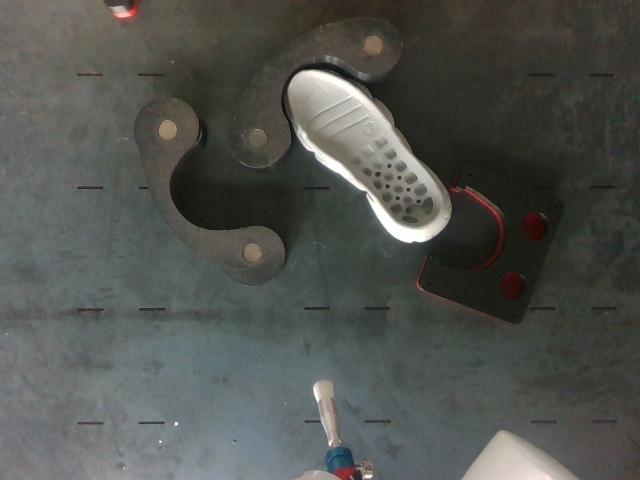shoes: (289, 71, 443, 229)
